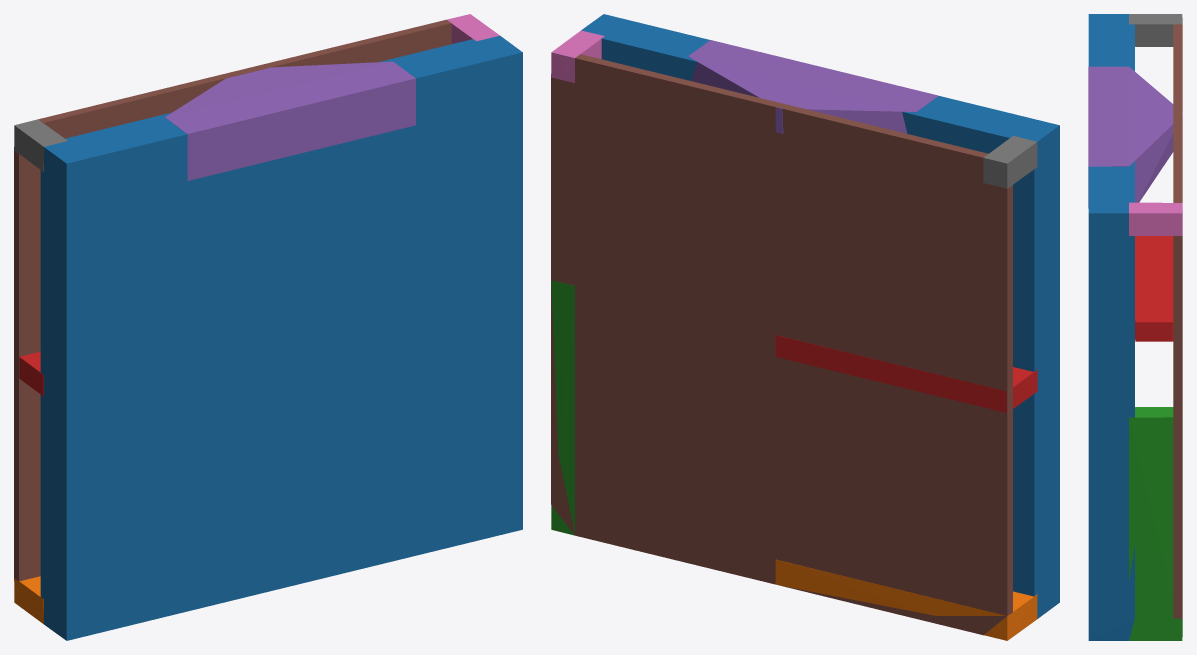
Rendered from LivingRoom_Table_cvx.obj.
3 views of the same model, side by side, from view 1: azimuth 30°, elevation 25°; view 2: azimuth 150°, elevation 25°; view 3: azimuth 270°, elevation 25° (orthographic). The views are drawn at different scales.
Parts seen in each view (by area): view 1: scenes/apartment_0000_coacd/output/Unknown/LivingRoom_Table/cvx/; view 2: scenes/apartment_0000_coacd/output/Unknown/LivingRoom_Table/cvx/; view 3: scenes/apartment_0000_coacd/output/Unknown/LivingRoom_Table/cvx/.
Boxes of the visible parts, bbox=[...] form: scenes/apartment_0000_coacd/output/Unknown/LivingRoom_Table/cvx/: bbox=[14, 14, 522, 640]; scenes/apartment_0000_coacd/output/Unknown/LivingRoom_Table/cvx/: bbox=[551, 14, 1059, 640]; scenes/apartment_0000_coacd/output/Unknown/LivingRoom_Table/cvx/: bbox=[1088, 14, 1182, 640].
Bounding box in the file's own units: 1.8 × 1.8 × 0.36.
